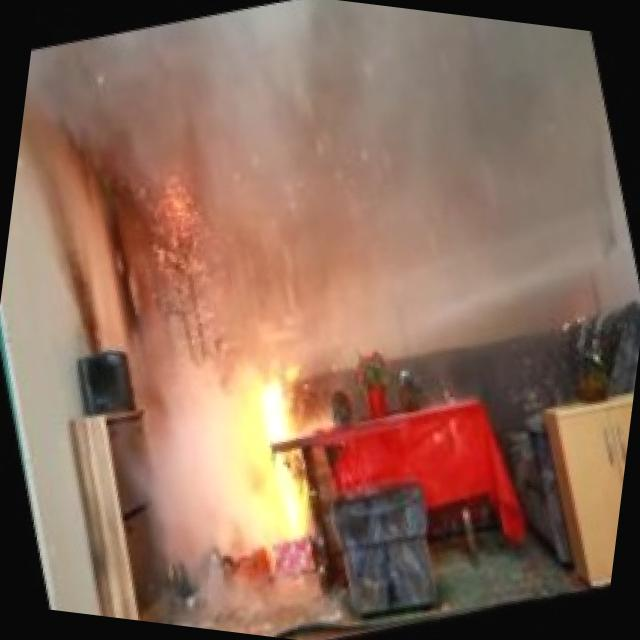fire: (189, 344, 350, 540)
smoke: (103, 343, 249, 576)
